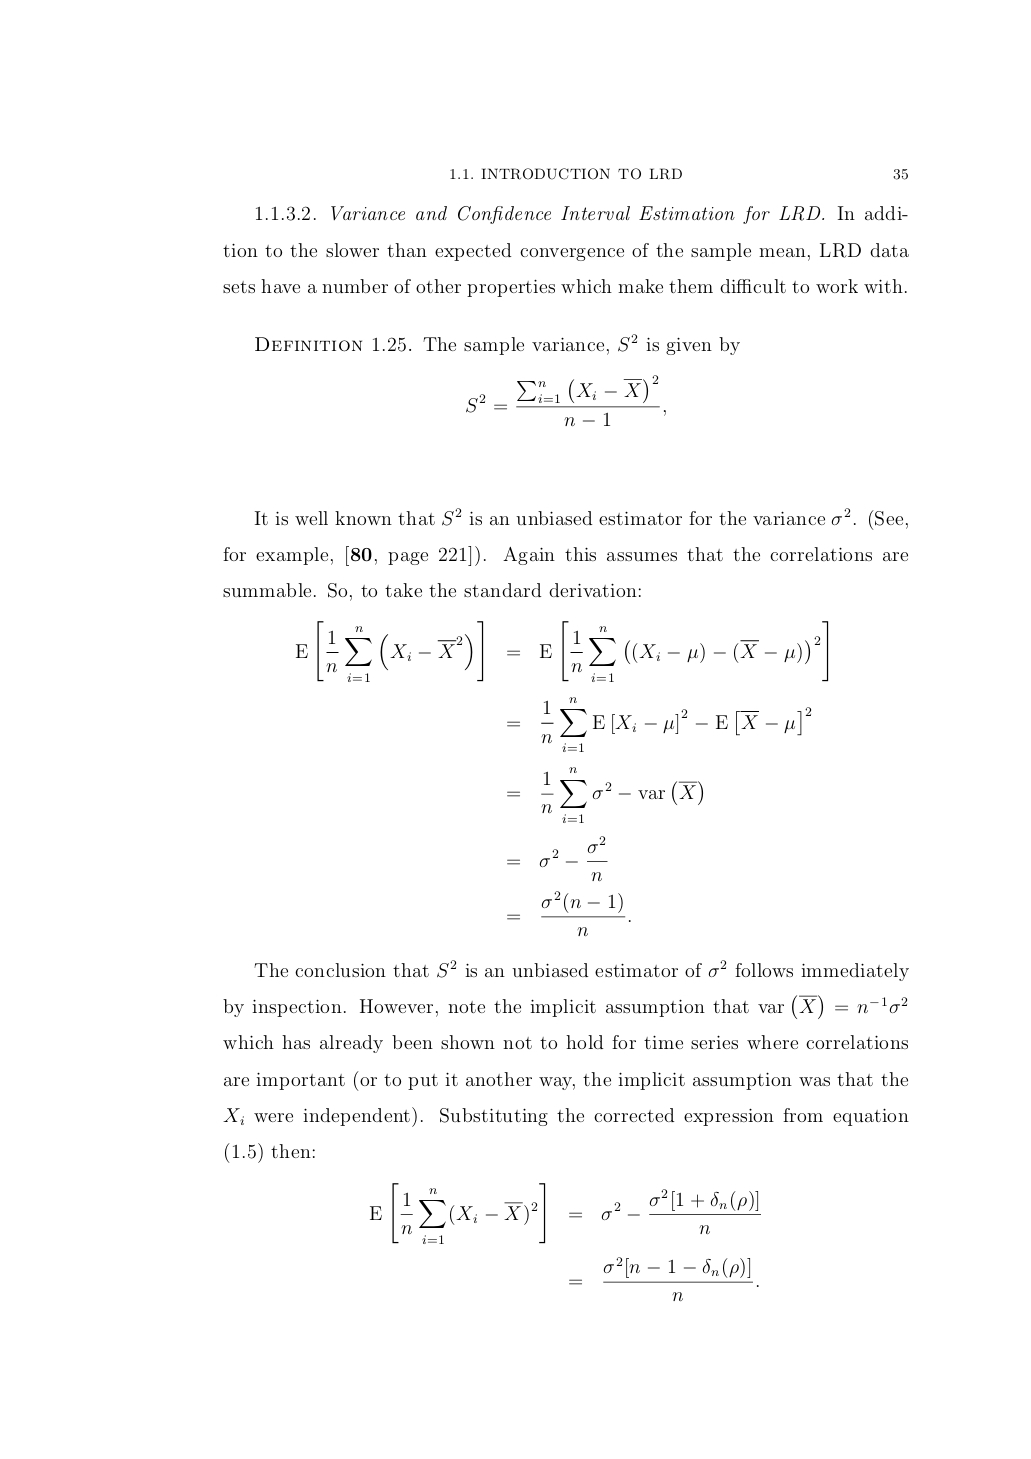formula: (295, 620, 828, 682), (369, 1181, 760, 1244), (507, 696, 811, 752), (507, 766, 703, 823), (466, 374, 665, 427), (569, 1257, 758, 1301), (507, 891, 630, 936), (507, 835, 607, 881)
